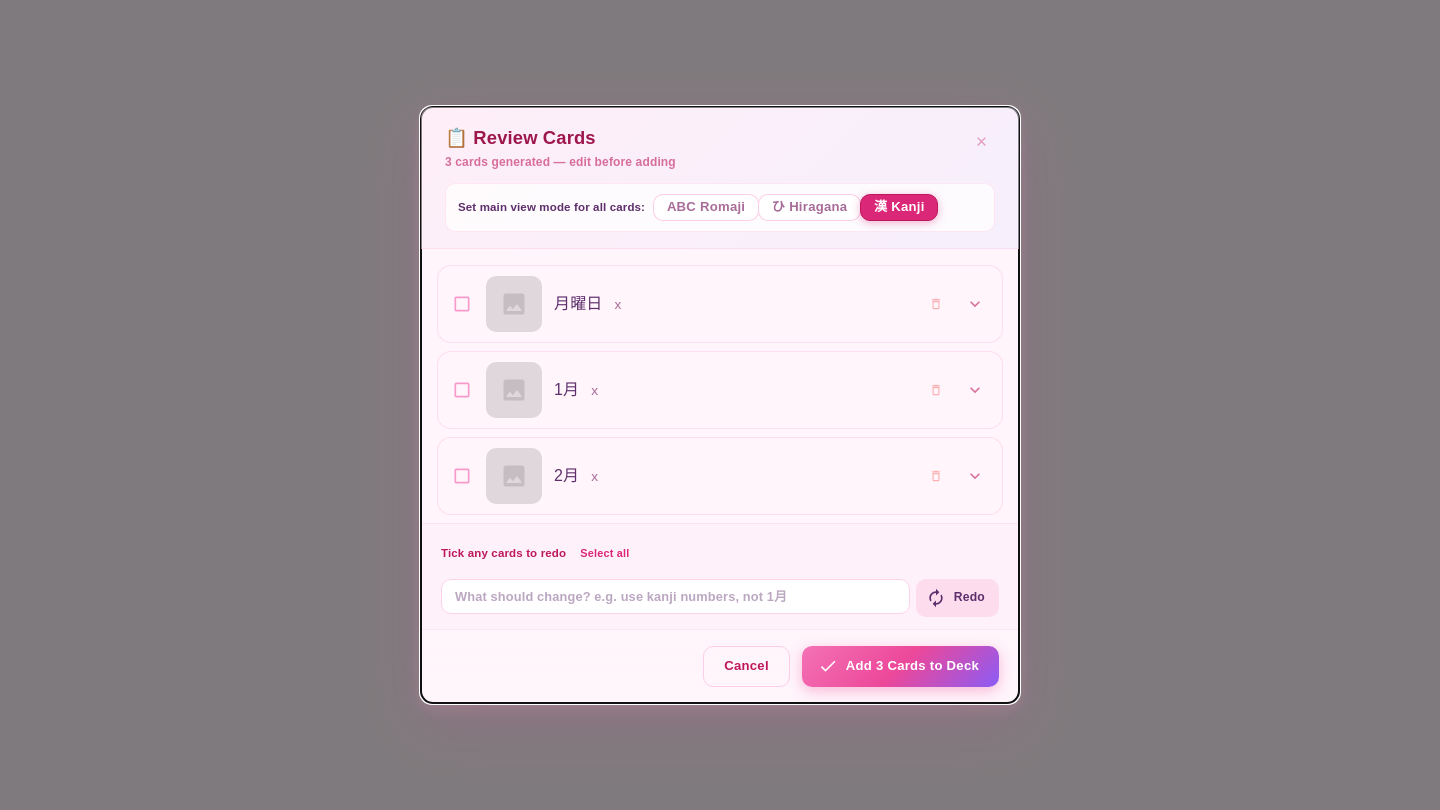
Scenario: ReviewCardsDialog regeneration › should report a short response and keep the unanswered rows
Step 1. Click the checkbox named "Select 1月 to redo" → (462, 390), box [452,380,472,400]
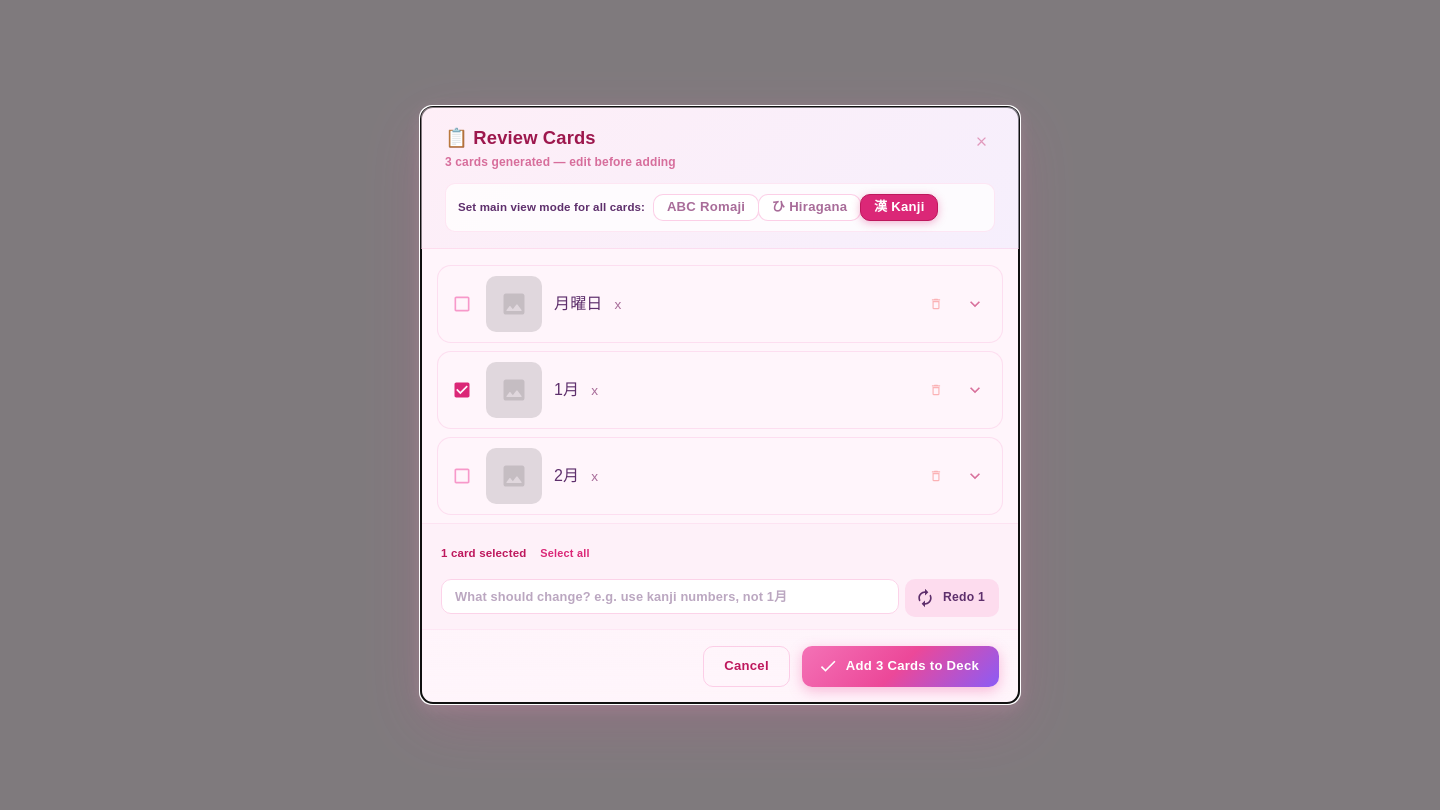
Step 2. Click the checkbox named "Select 2月 to redo" → (462, 476), box [452,466,472,486]
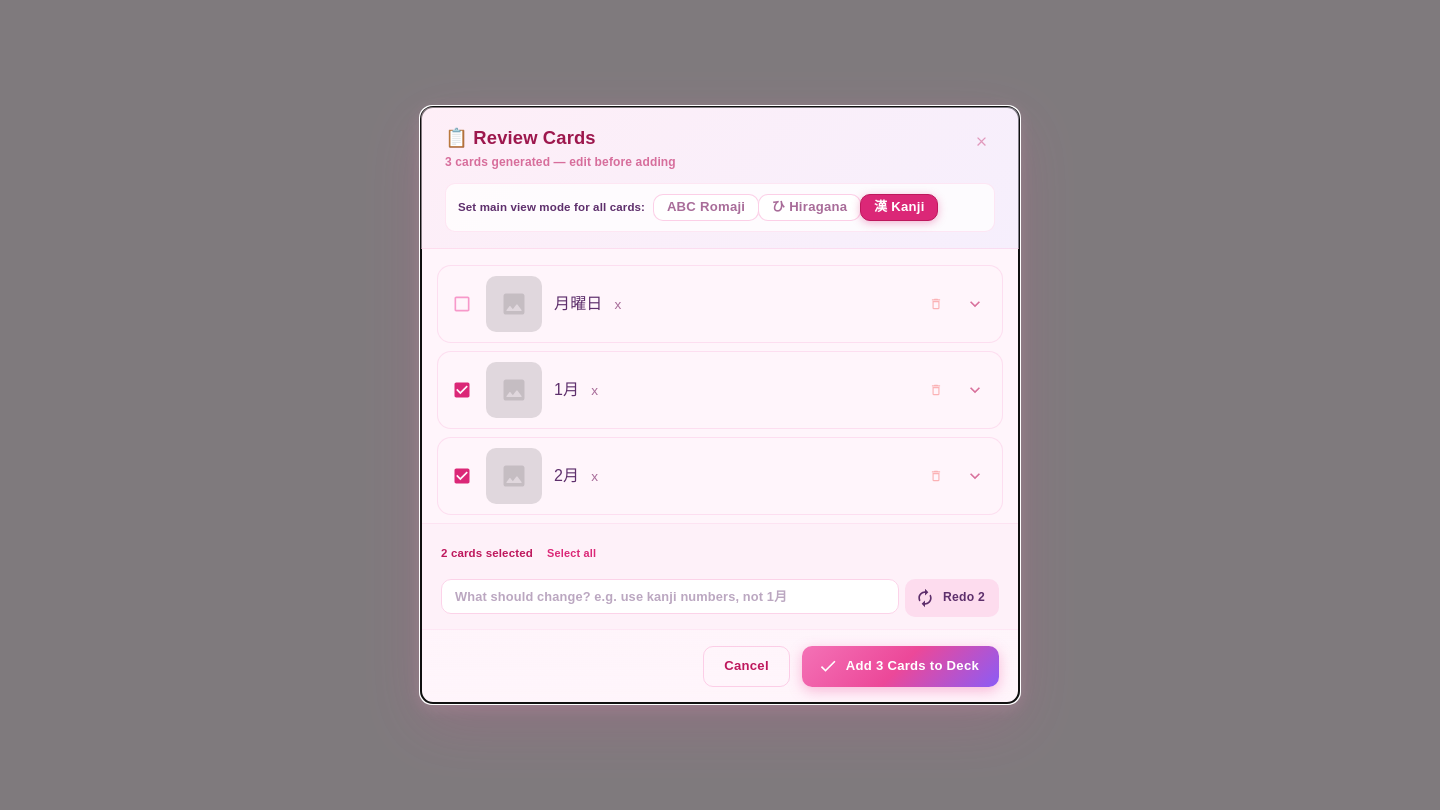
Step 3. Type "kanji" into the field with placeholder "What should change? e.g. use kanji numbers, not 1月" → (670, 596), box [441,579,899,614]
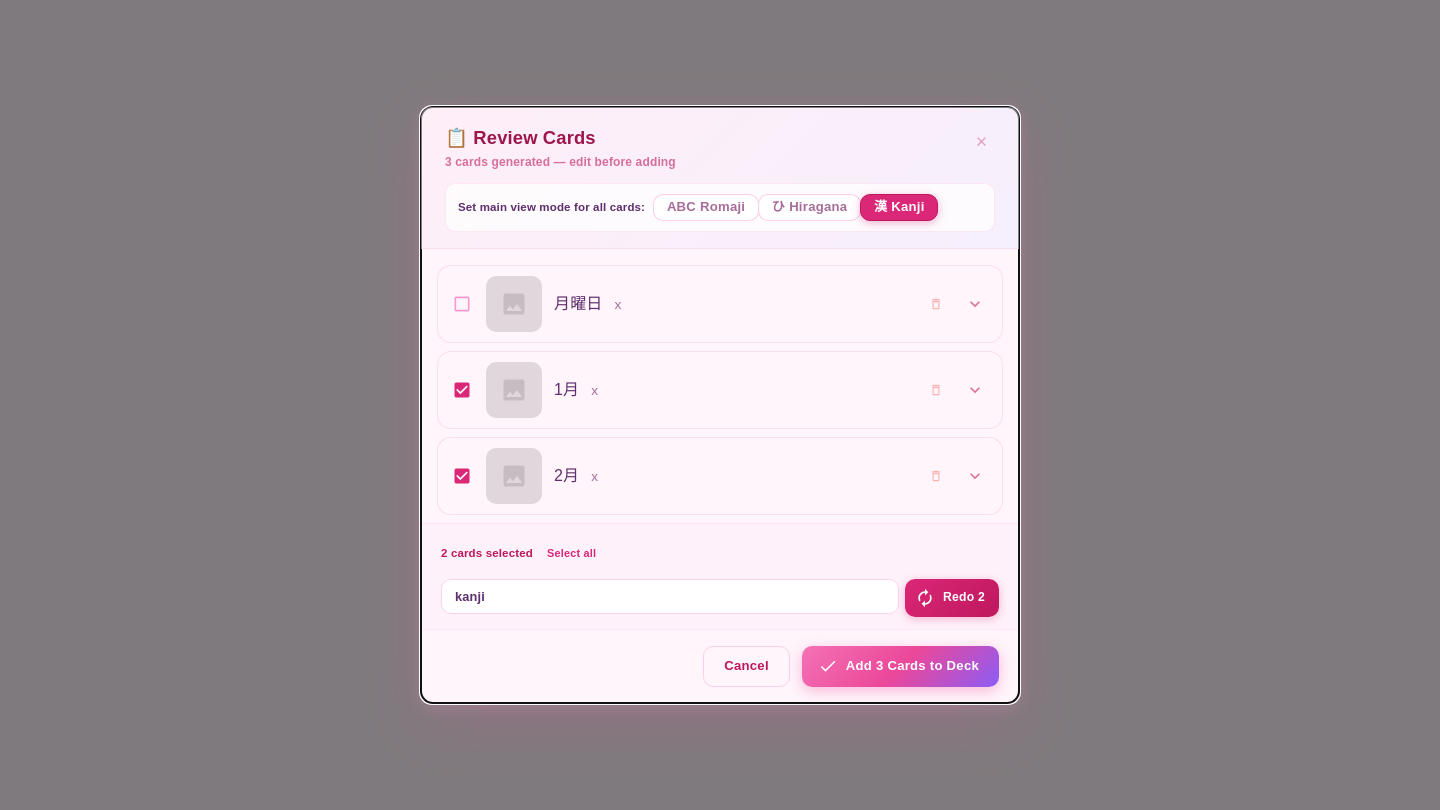
Step 4. Click the button "Redo 2" → (952, 598), box [905,579,999,617]
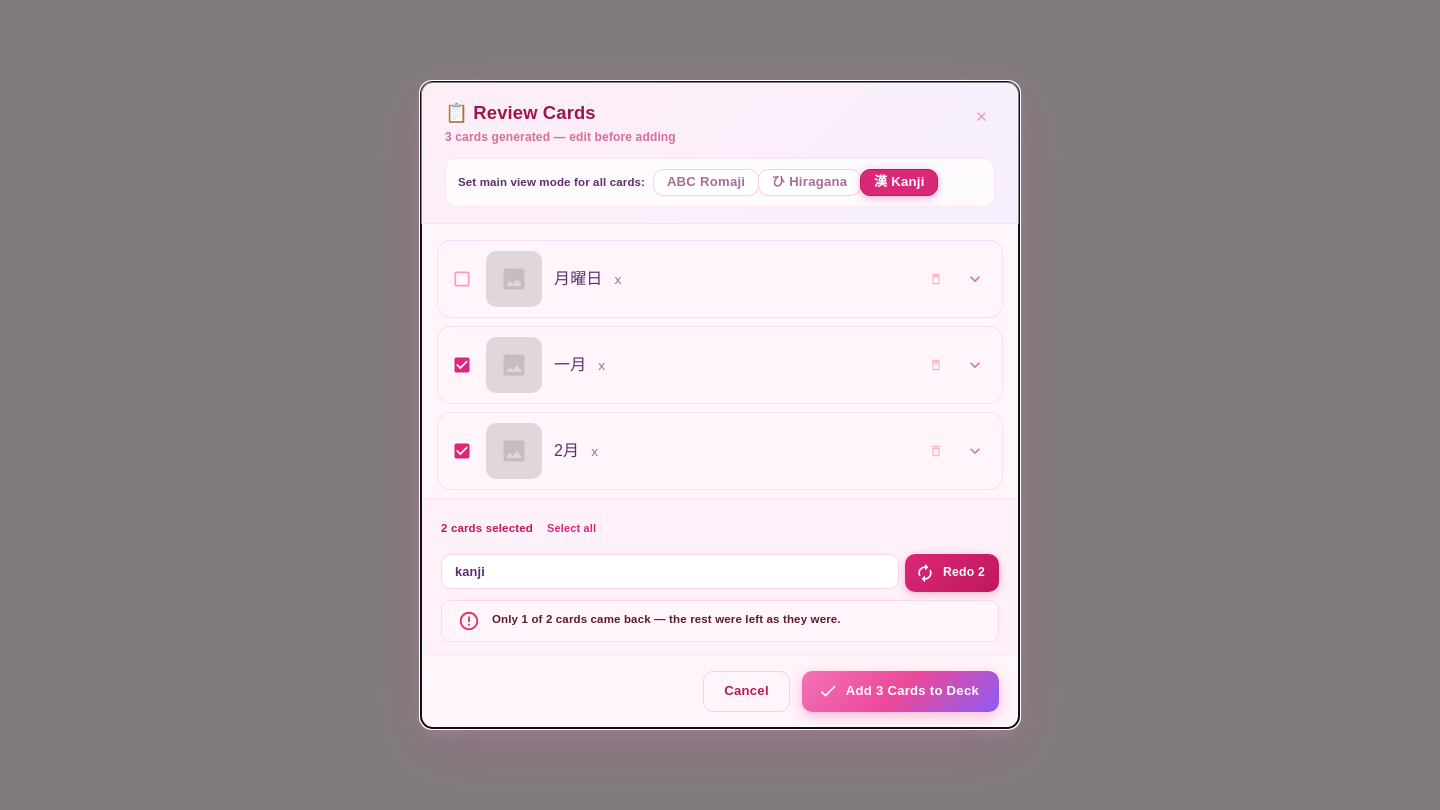
Check: the heading "2月" is shown, box [554,437,579,465]
Check: the text "Only 1 of 2 cards came back" is shown, box [492,613,841,625]
Check: the heading "一月" is shown, box [554,351,586,379]
